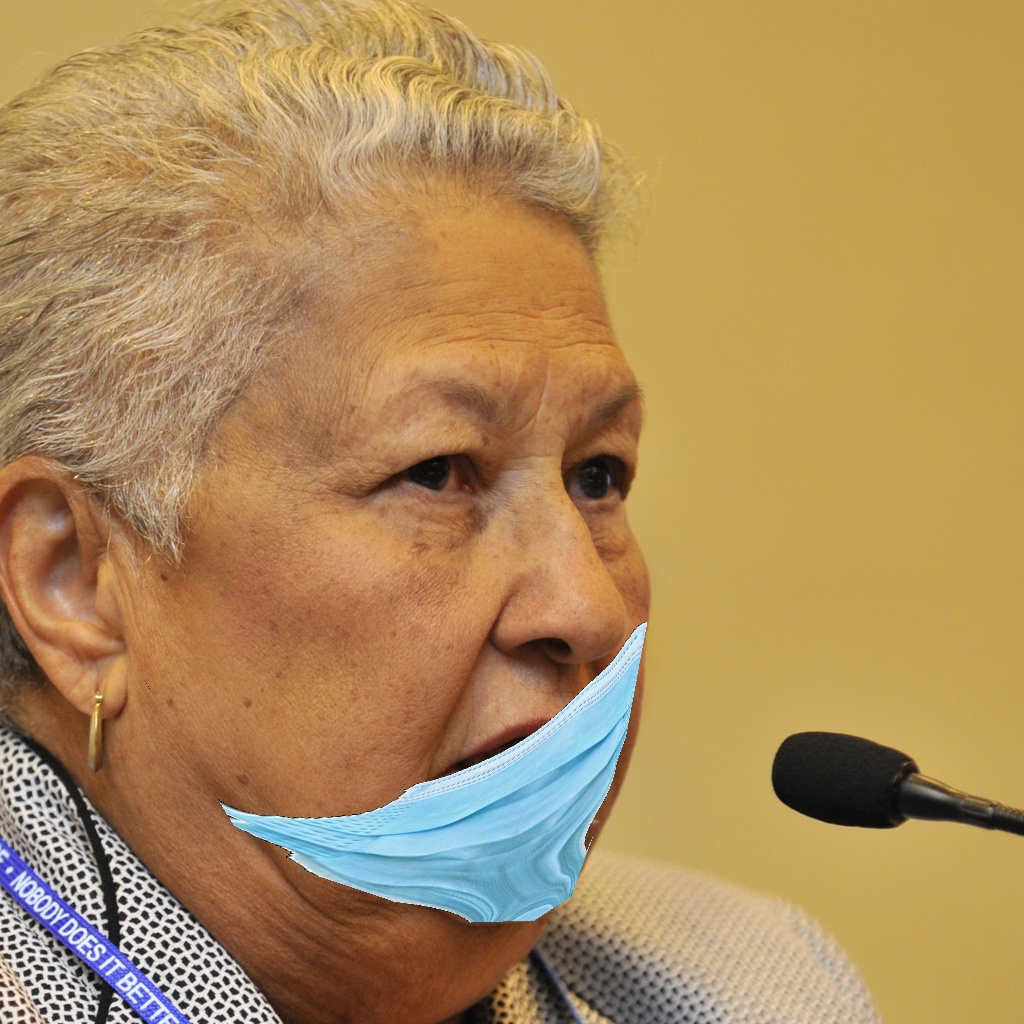mascarilla_mal_puesta: (111, 183, 703, 998)
